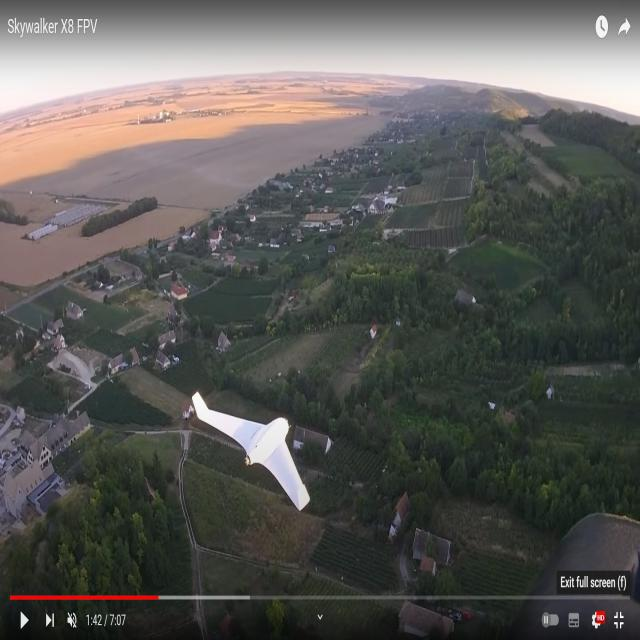iha: (223, 422, 277, 485)
